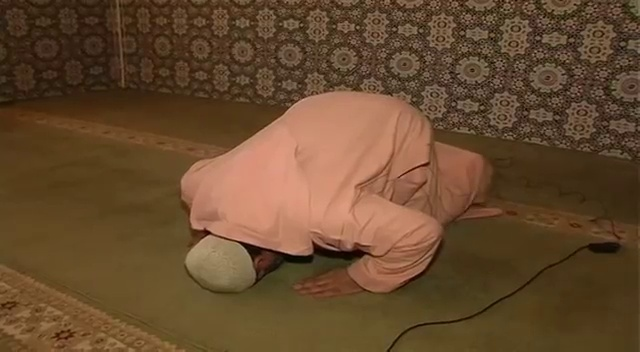sujud: (181, 92, 487, 302)
